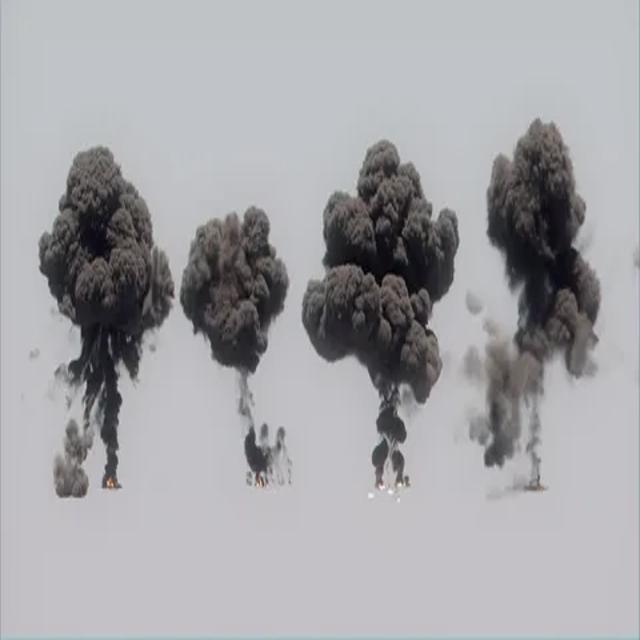Smoke: (304, 140, 461, 501), (466, 119, 602, 494), (36, 144, 175, 498), (180, 142, 294, 490)
